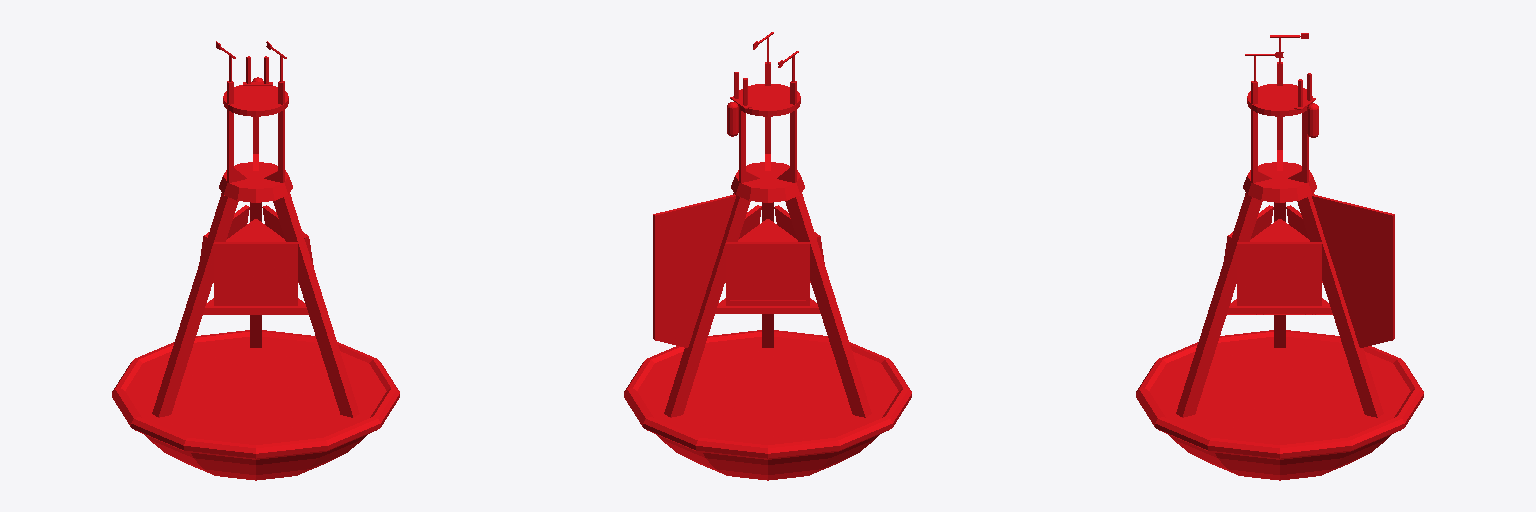
The picture shows the model from 3 angles: view 1: azimuth 30°, elevation 25°; view 2: azimuth 150°, elevation 25°; view 3: azimuth 270°, elevation 25°; orthographic projection.
Parts seen in each view (by area): view 1: buoy; view 2: buoy; view 3: buoy.
Part boxes in pixels (left/top/right/bottom): buoy: left=112, top=41, right=399, bottom=480; buoy: left=624, top=32, right=911, bottom=480; buoy: left=1136, top=33, right=1423, bottom=480.
Bounding box in the file's own units: 1.46 × 2.34 × 1.46.
Materials: 1 (1 with a texture image).